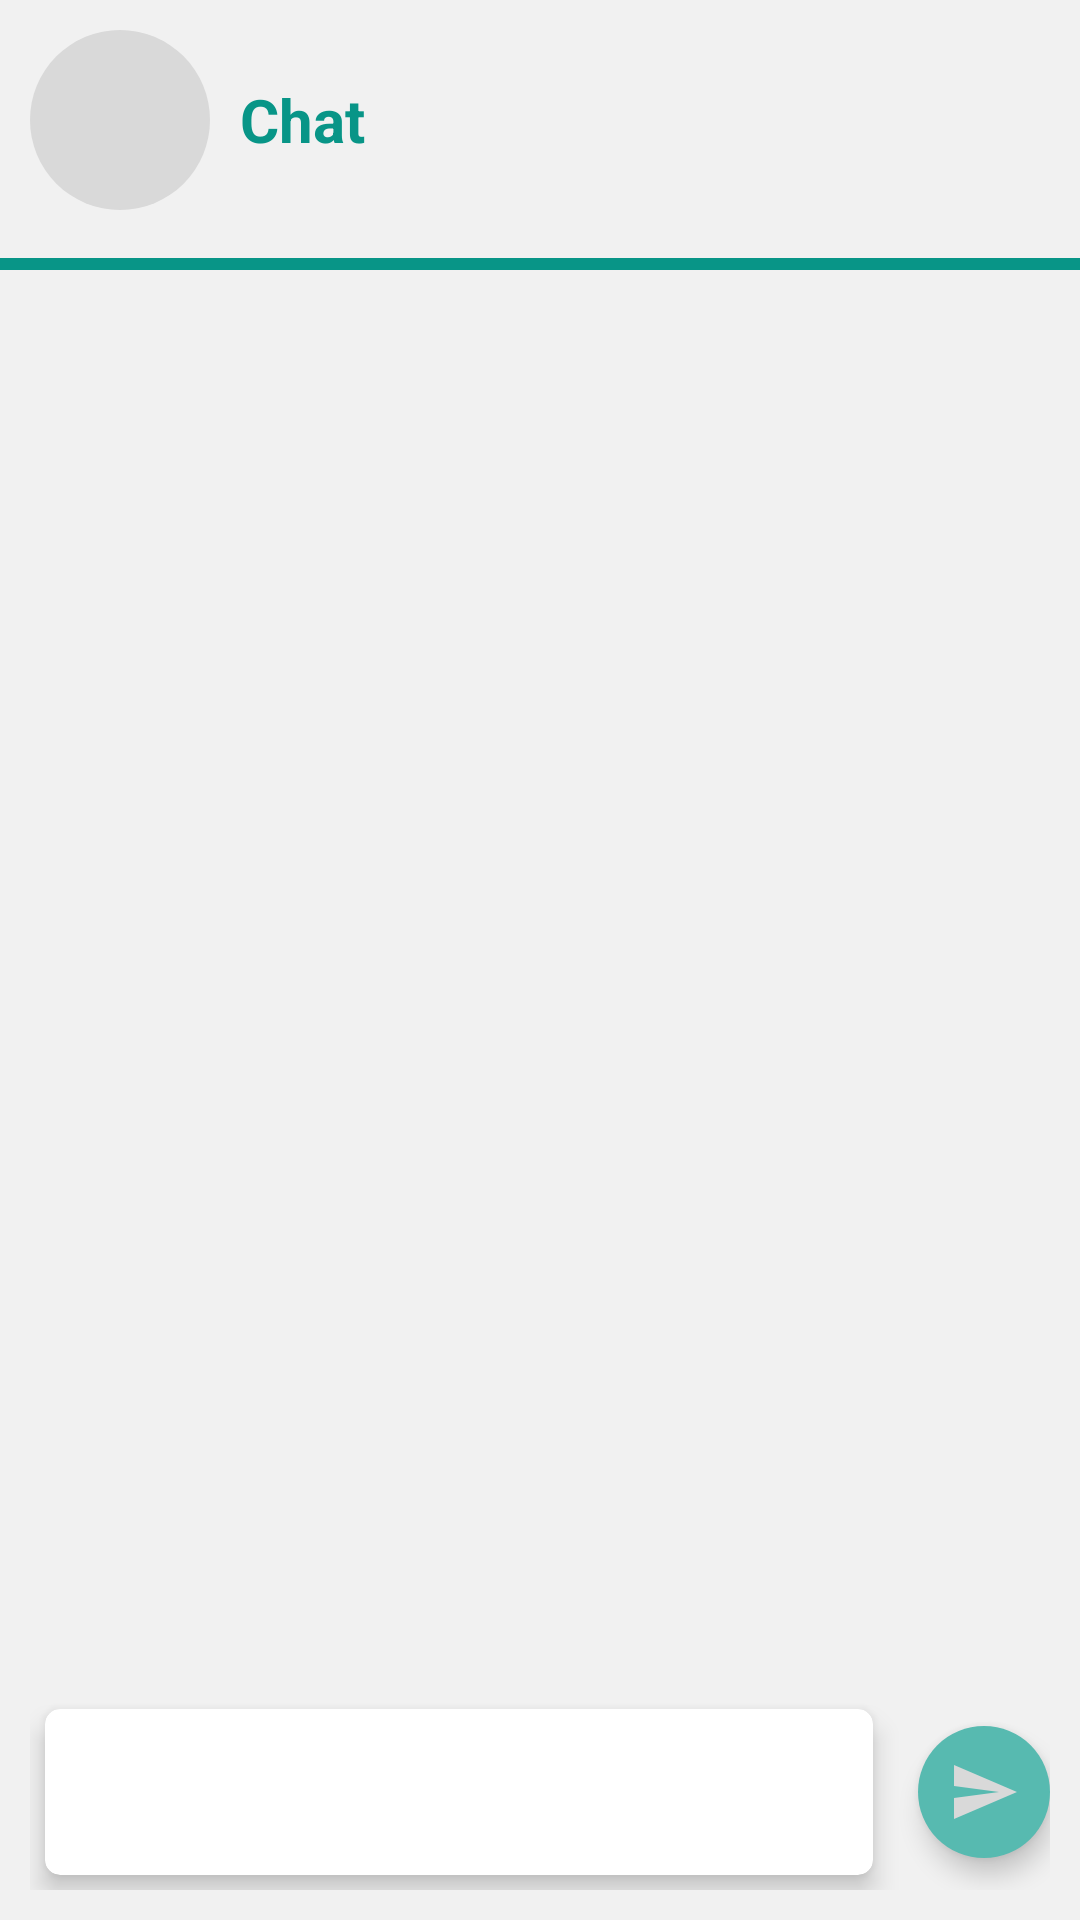

Screen size 1080*1920. Icon name, then its box in pixels as BBox(x1, y1, x2, y2):
send: BBox(918, 1726, 1050, 1858)
